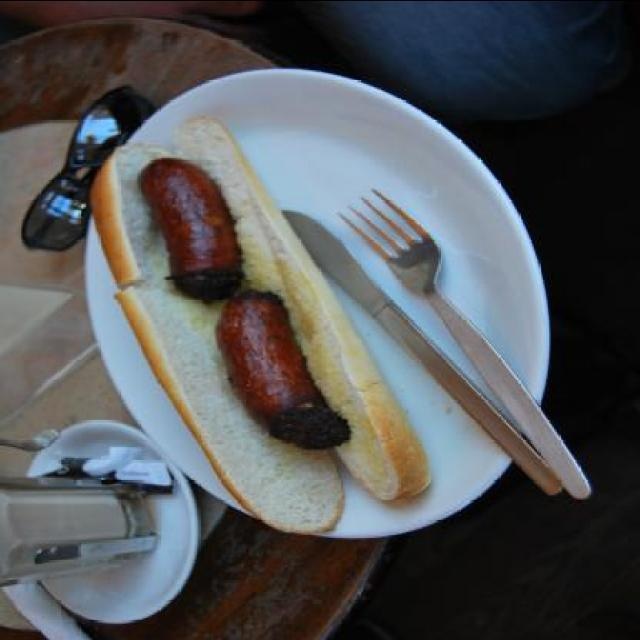Hot dog: (92, 112, 436, 540)
